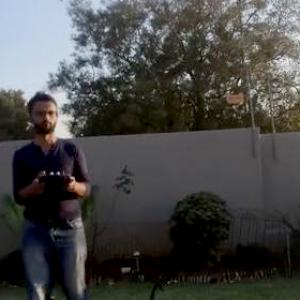follow: (9, 92, 96, 299)
